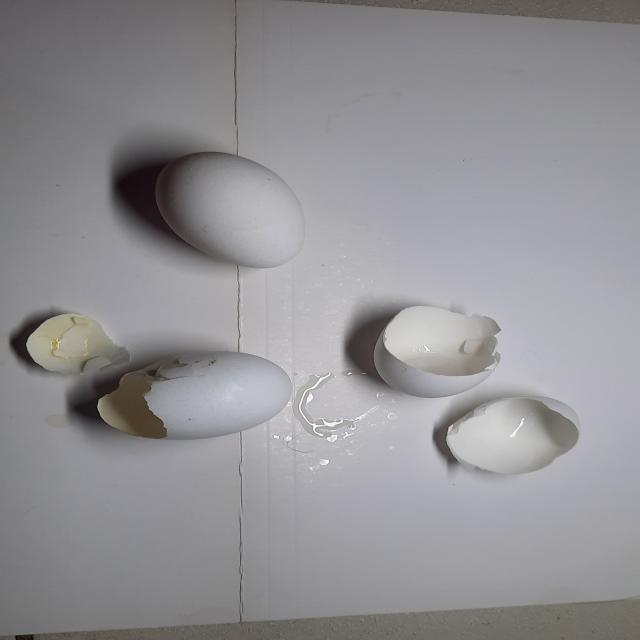egg shell: (151, 148, 309, 272), (88, 349, 290, 436), (371, 302, 508, 400), (443, 392, 585, 478), (22, 312, 125, 379)
